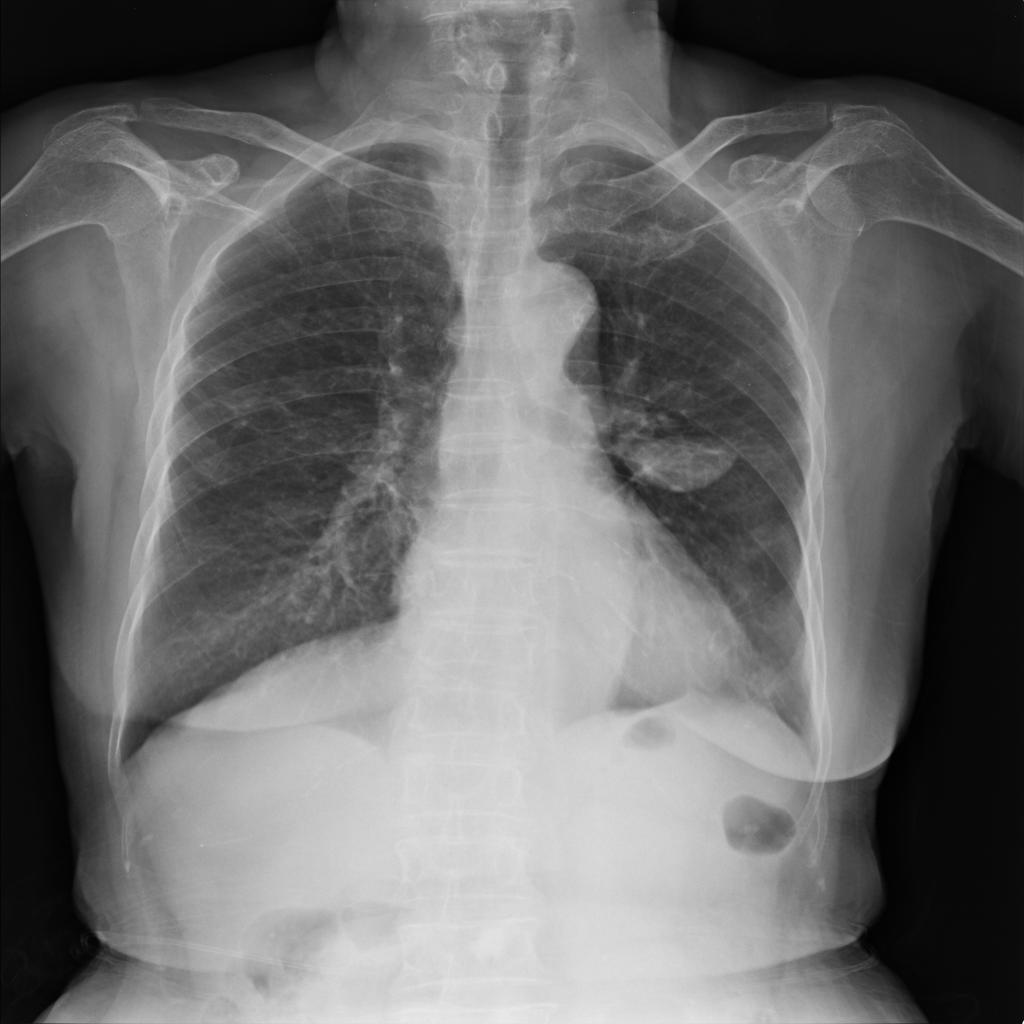Nodule: (625, 435, 745, 496), (741, 669, 785, 700)
